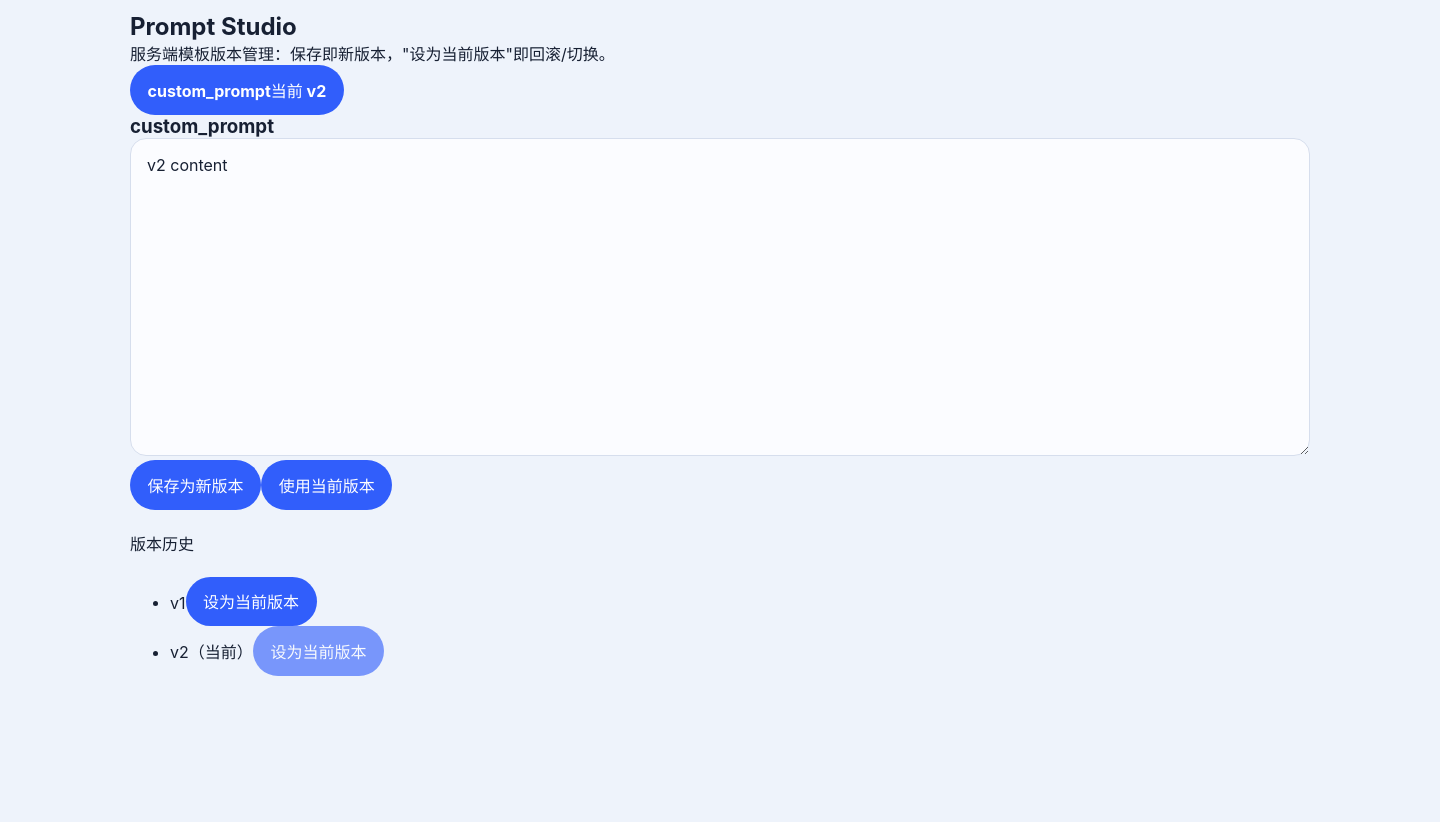
Scenario: PromptStudio › saves a new version through the API
Expected: the button "custom_prompt" is shown, [130, 65, 344, 115]
Replace the text in the text box named "Prompt 内容" with "v3 content": (720, 297) [130, 138, 1310, 456]
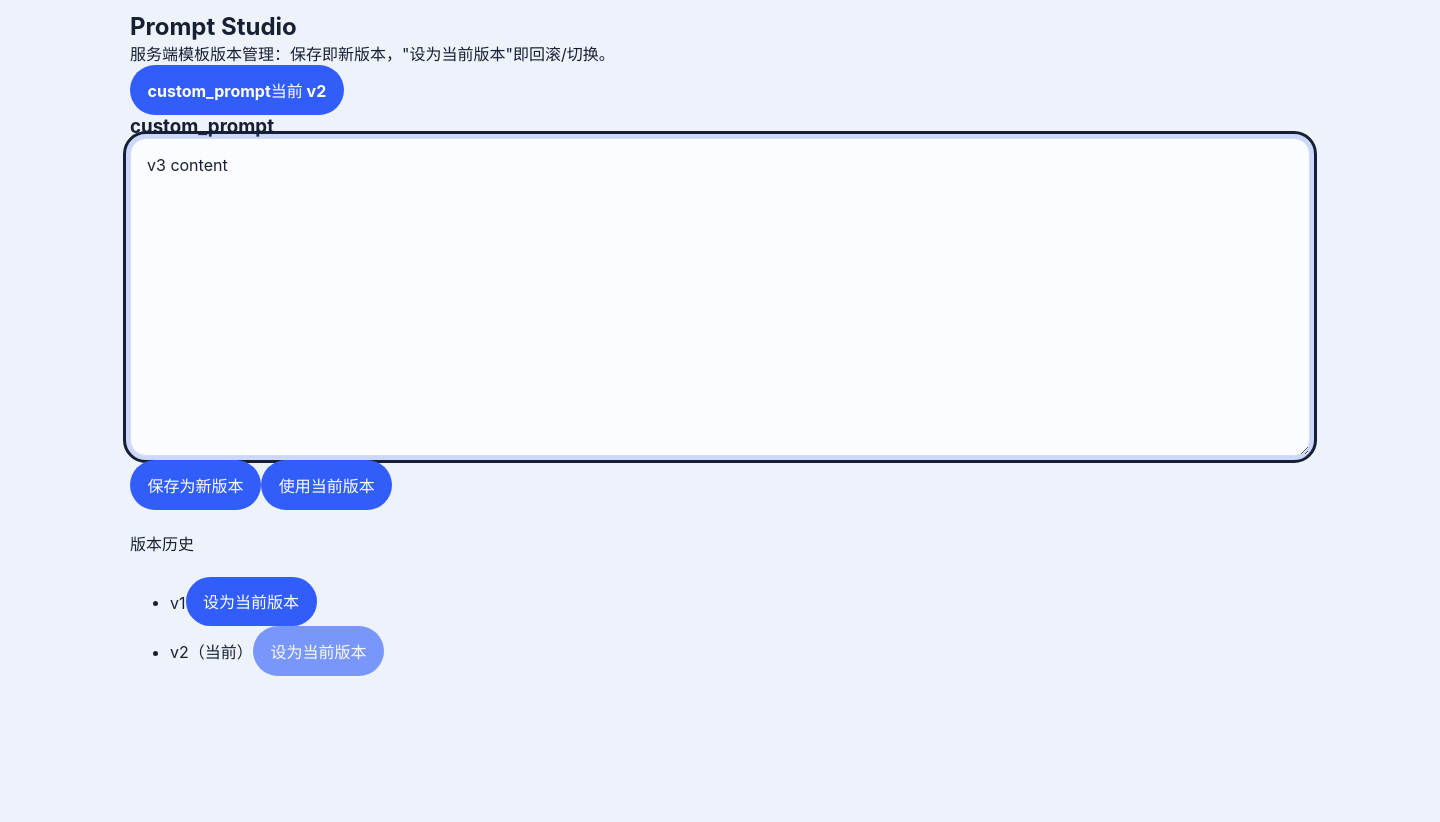
Click the button "保存为新版本": (196, 485) [130, 460, 261, 510]
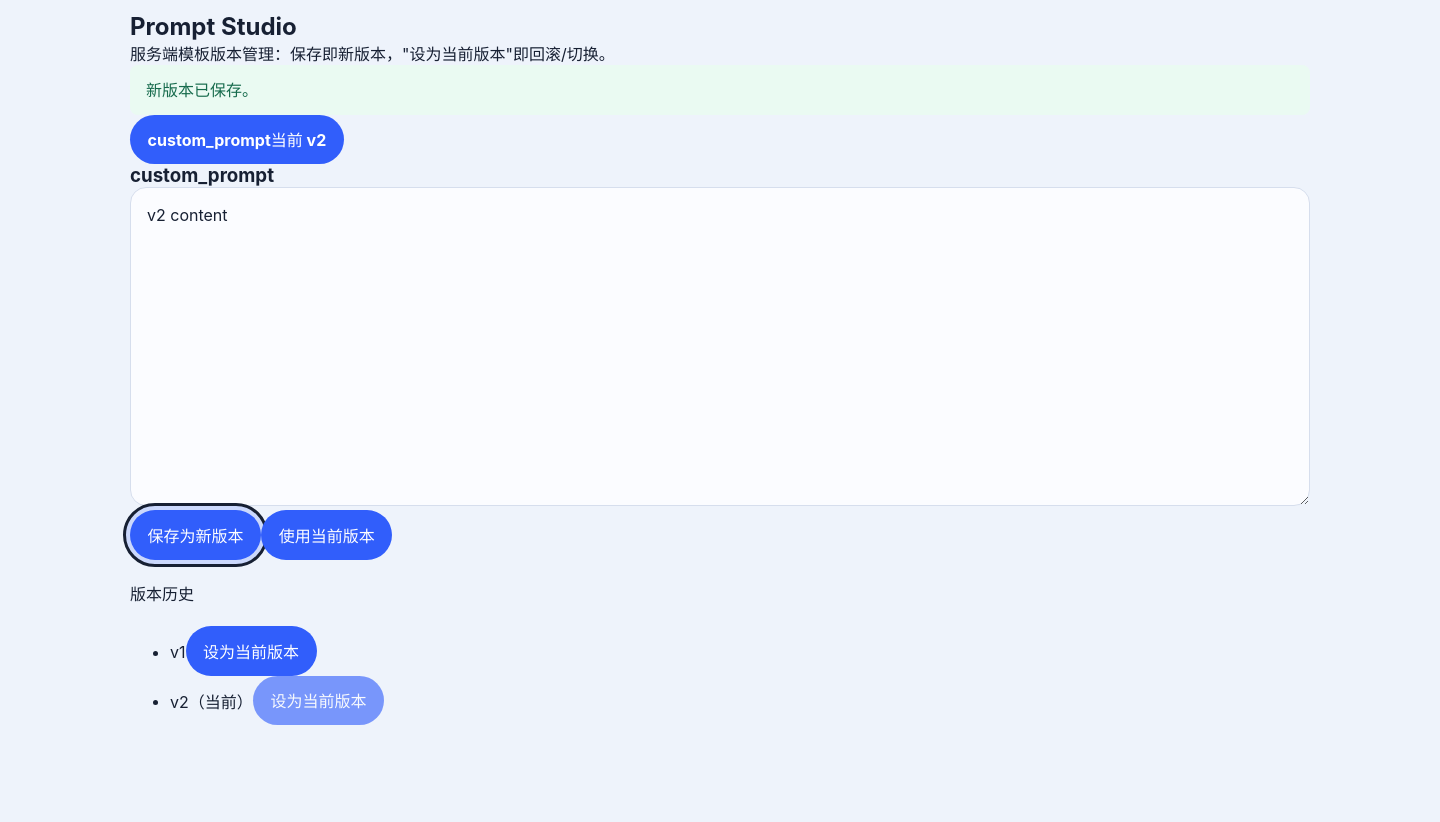
Now the message shows "新版本已保存", box [146, 80, 258, 100]
